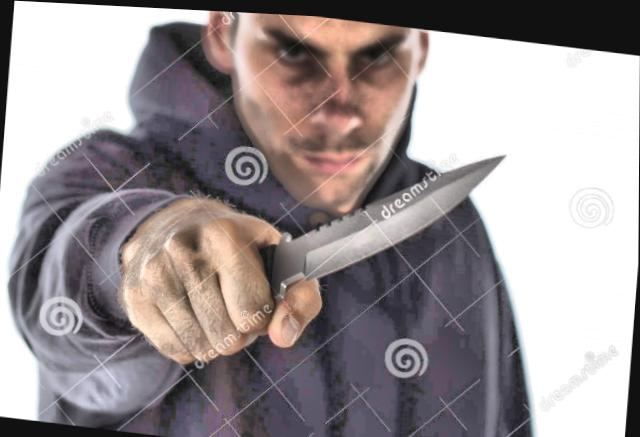knife: (179, 104, 516, 364)
